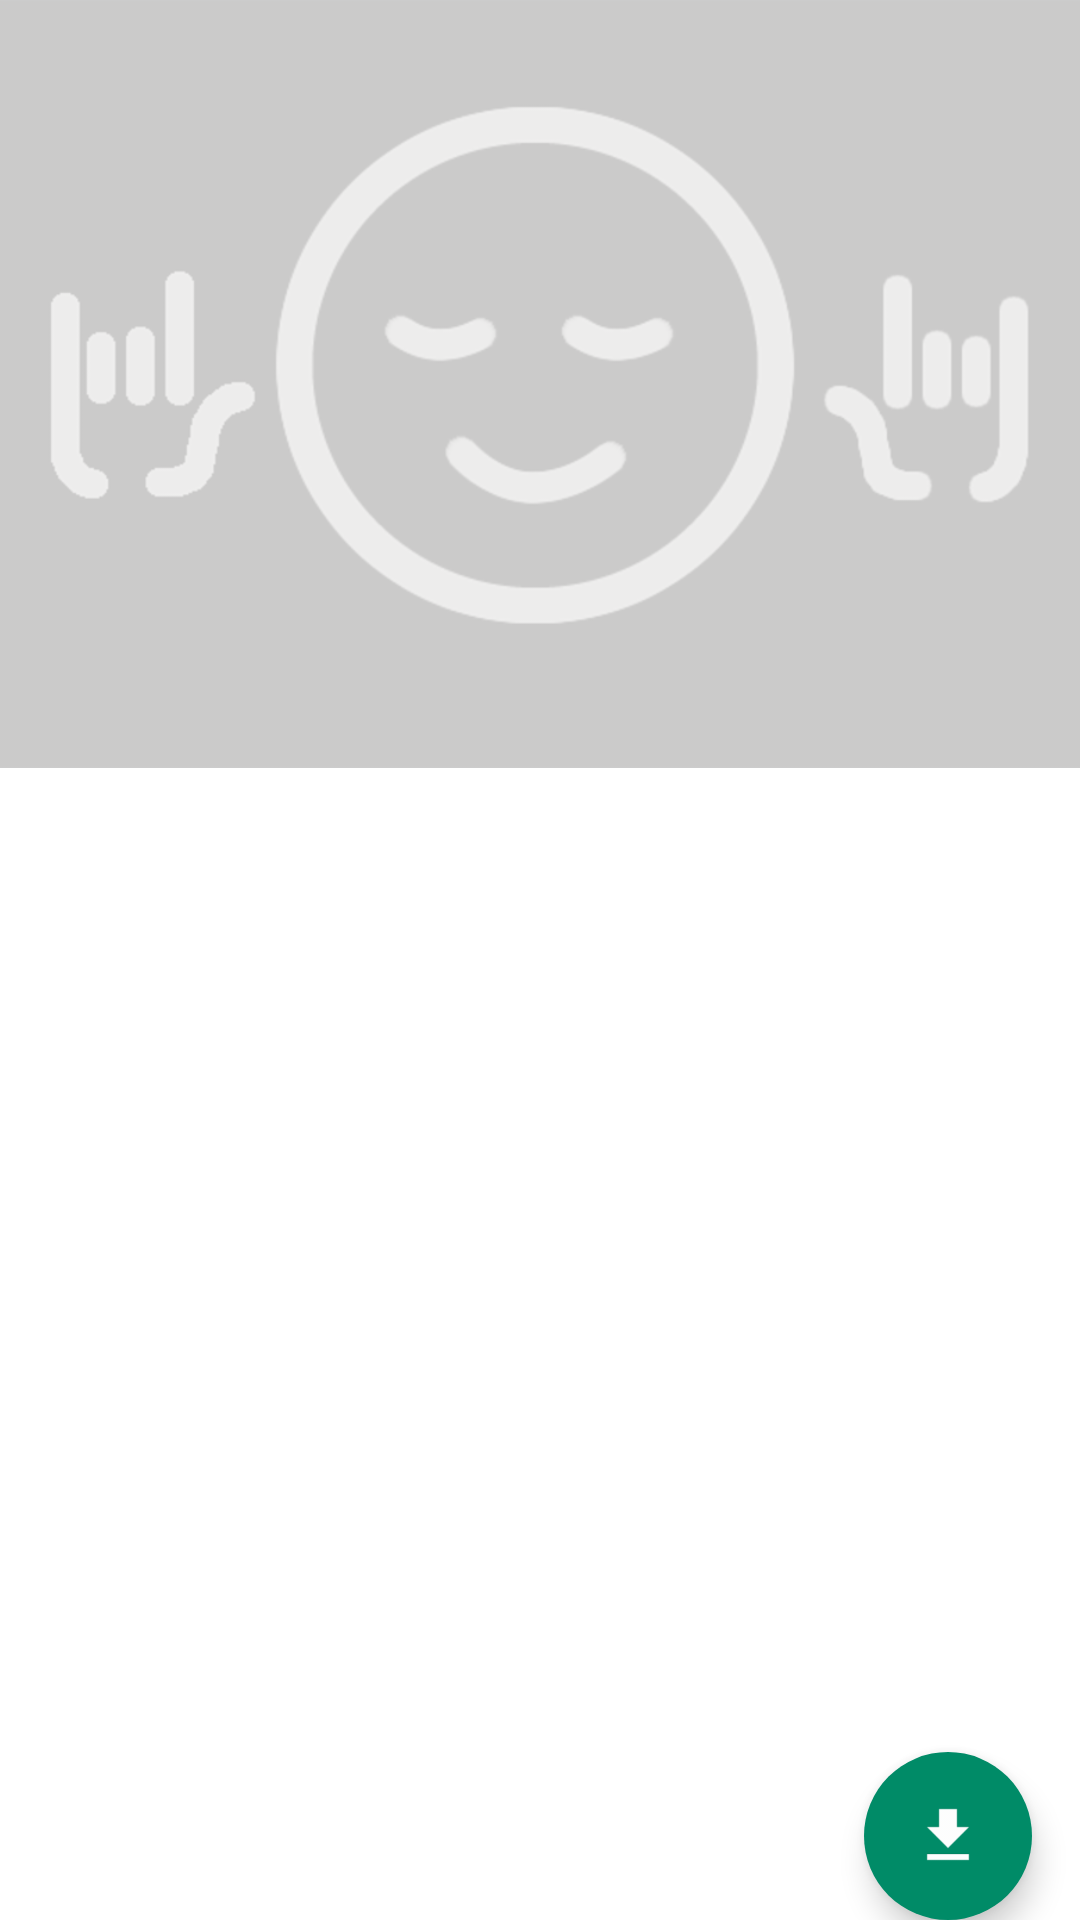

Icon click points for this 1080 x 1920 phone screenshot, format [x,y]:
download: [948,1836]
